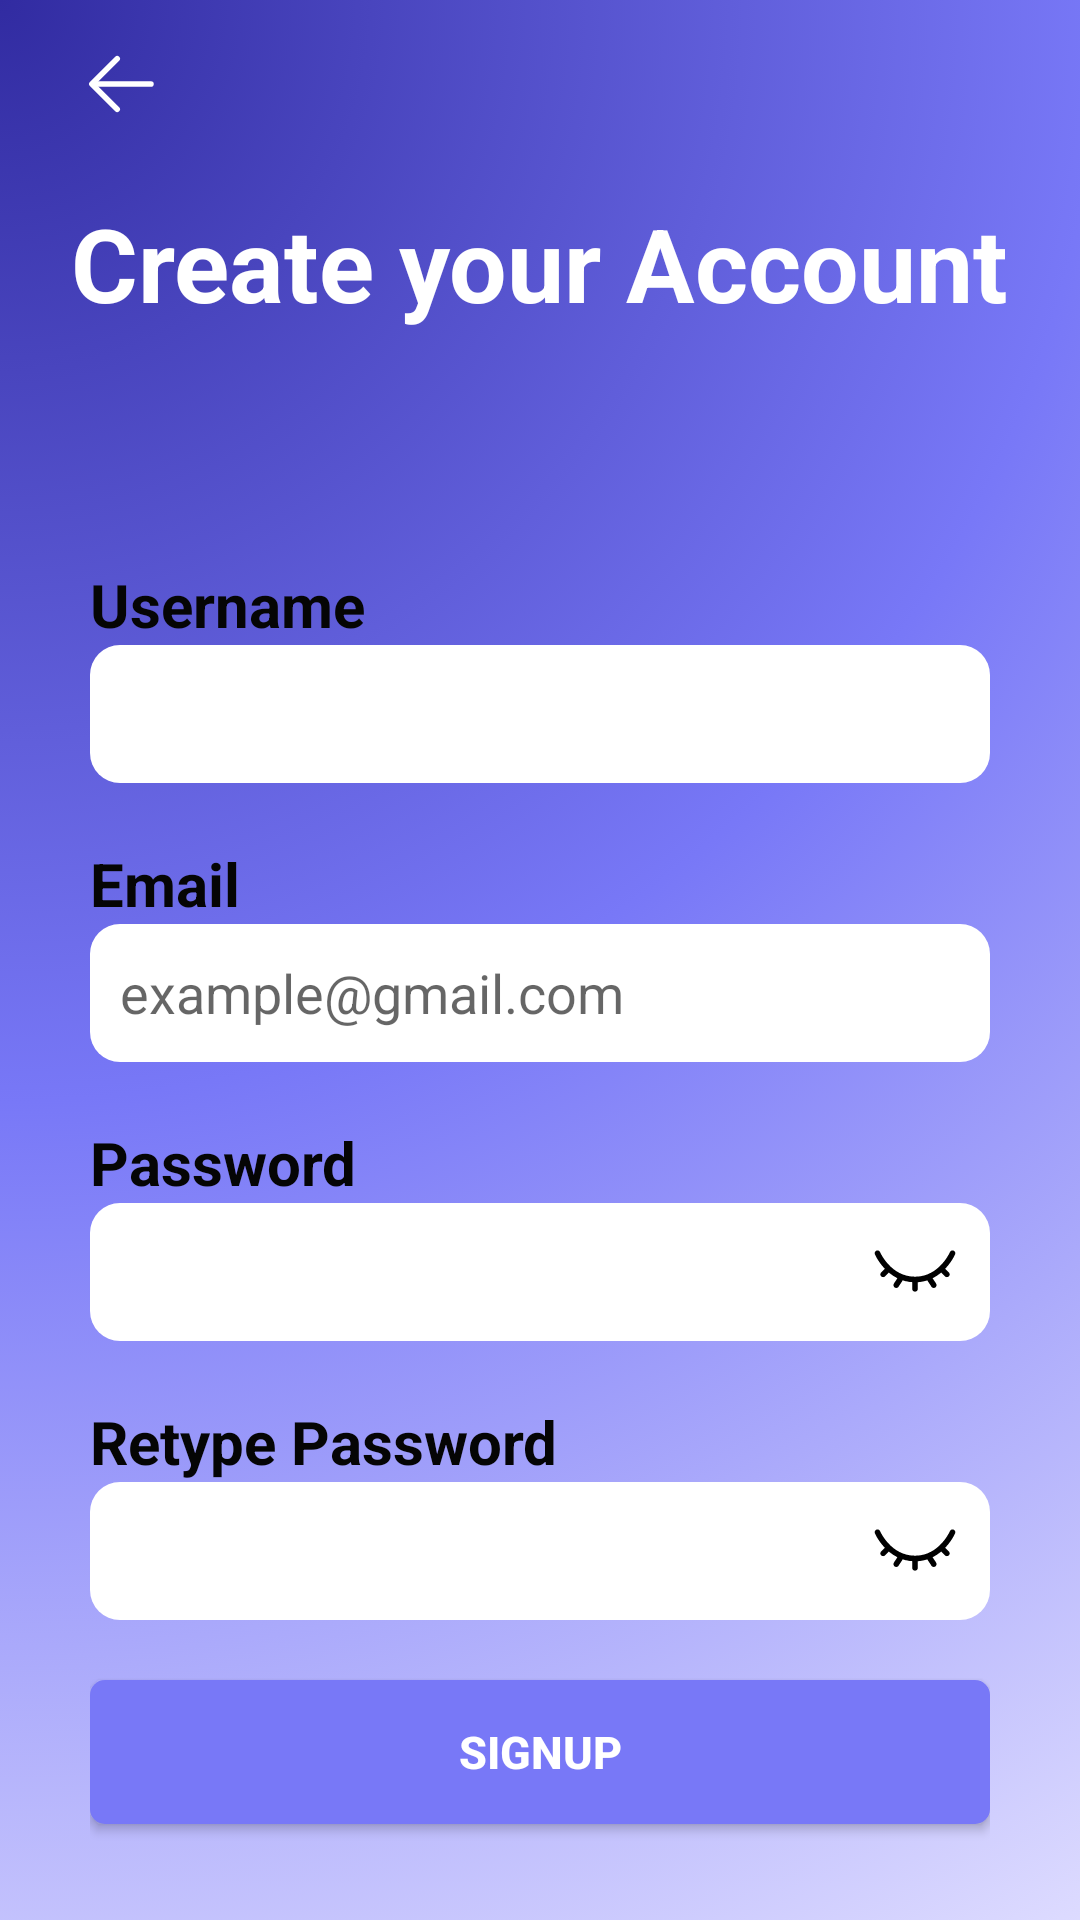

Where icons sit on this 1080 × 1920 app screen, as (x1, y1, x2, y2):
Back: (89, 55, 154, 113)
